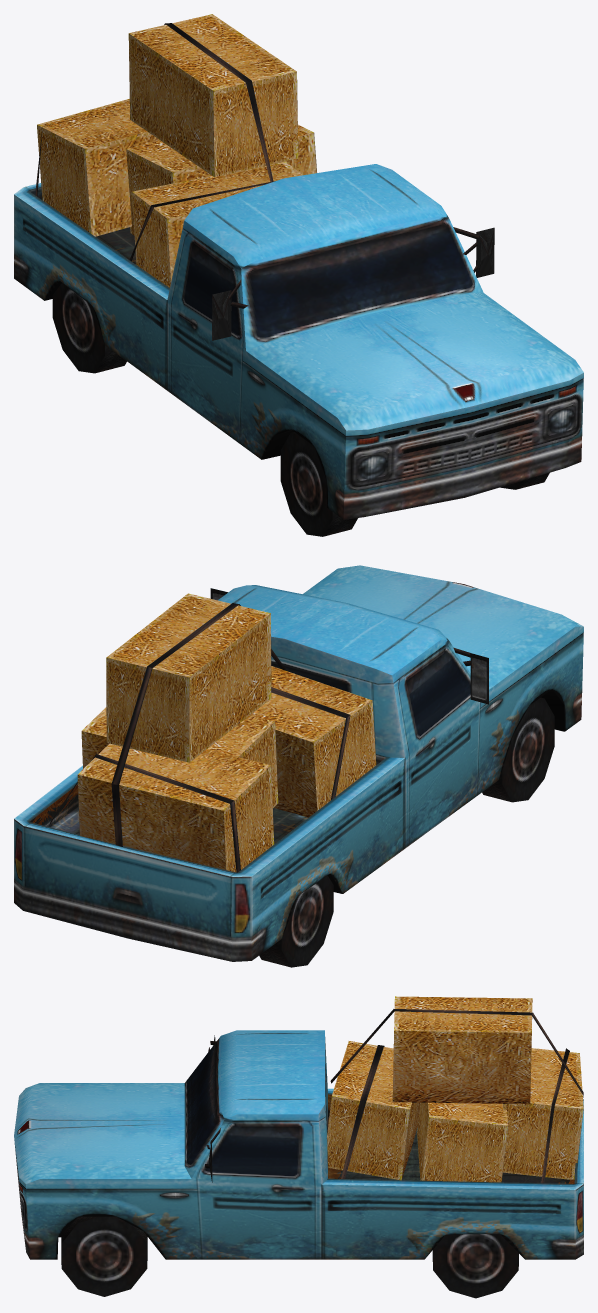
File: tx_pickup.fbx
3 views of the same model, one above another, from view 1: azimuth 30°, elevation 25°; view 2: azimuth 150°, elevation 25°; view 3: azimuth 270°, elevation 25° (orthographic). The views are drawn at different scales.
Visible parts, largest first — view 1: tx_pickup; view 2: tx_pickup; view 3: tx_pickup.
Boxes of the visible parts, left/top/right/bottom form: tx_pickup: left=14, top=14, right=583, bottom=536; tx_pickup: left=14, top=565, right=583, bottom=967; tx_pickup: left=14, top=996, right=583, bottom=1298.
Size of the model in its own units: 205 by 207 by 435.
